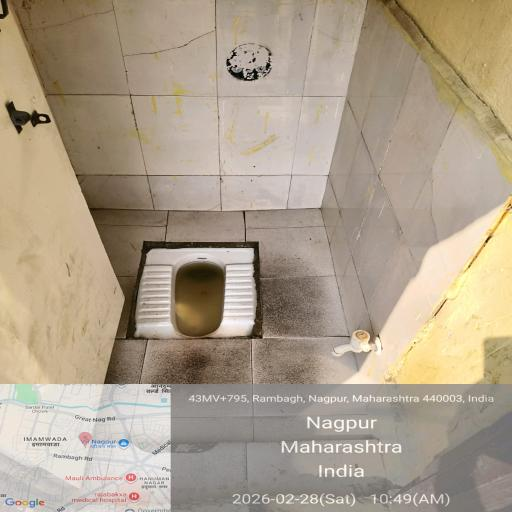dirty_indian: (130, 251, 278, 339)
partial_dirty_floor: (14, 0, 372, 181), (310, 124, 464, 256), (0, 221, 110, 386), (250, 206, 353, 382), (92, 342, 274, 394), (83, 207, 215, 274)
